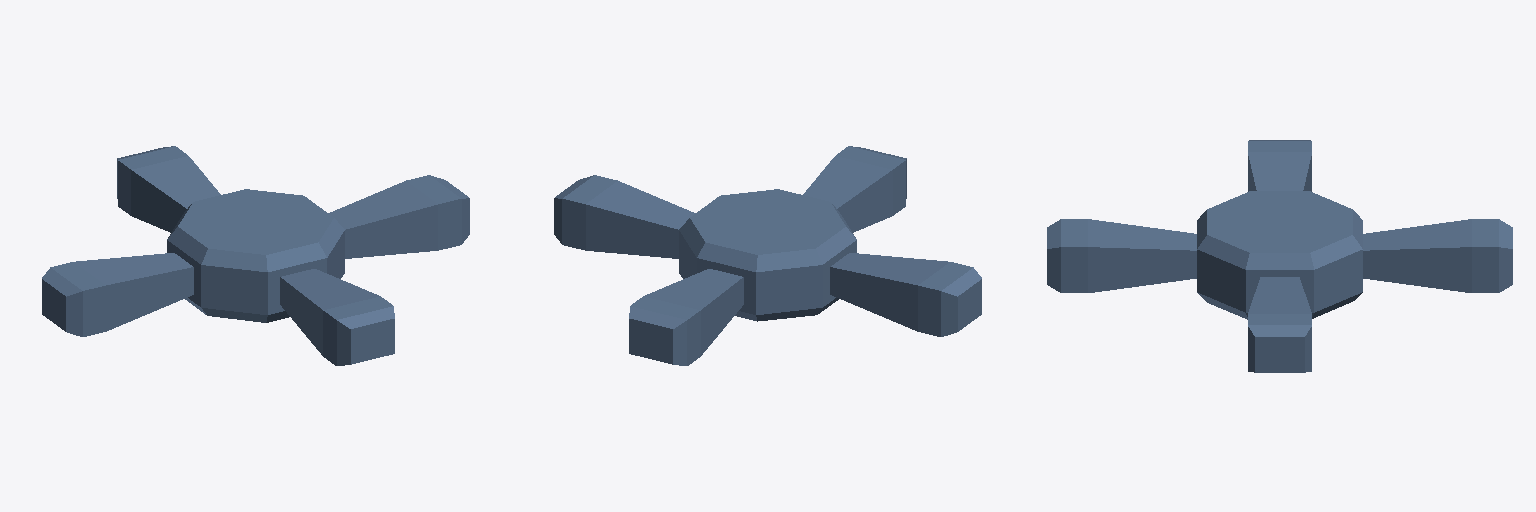
File: handle.obj
3 renders of one model, left to right at view 1: azimuth 30°, elevation 25°; view 2: azimuth 150°, elevation 25°; view 3: azimuth 270°, elevation 25°, orthographic.
Visible parts, largest first — view 1: faucet; view 2: faucet; view 3: faucet.
Part boxes in pixels (x1,y1,x2,y2): faucet: (42, 146, 469, 365); faucet: (554, 146, 981, 365); faucet: (1047, 140, 1512, 372).
Bounding box in the file's own units: 3.61 × 0.5788 × 3.61.